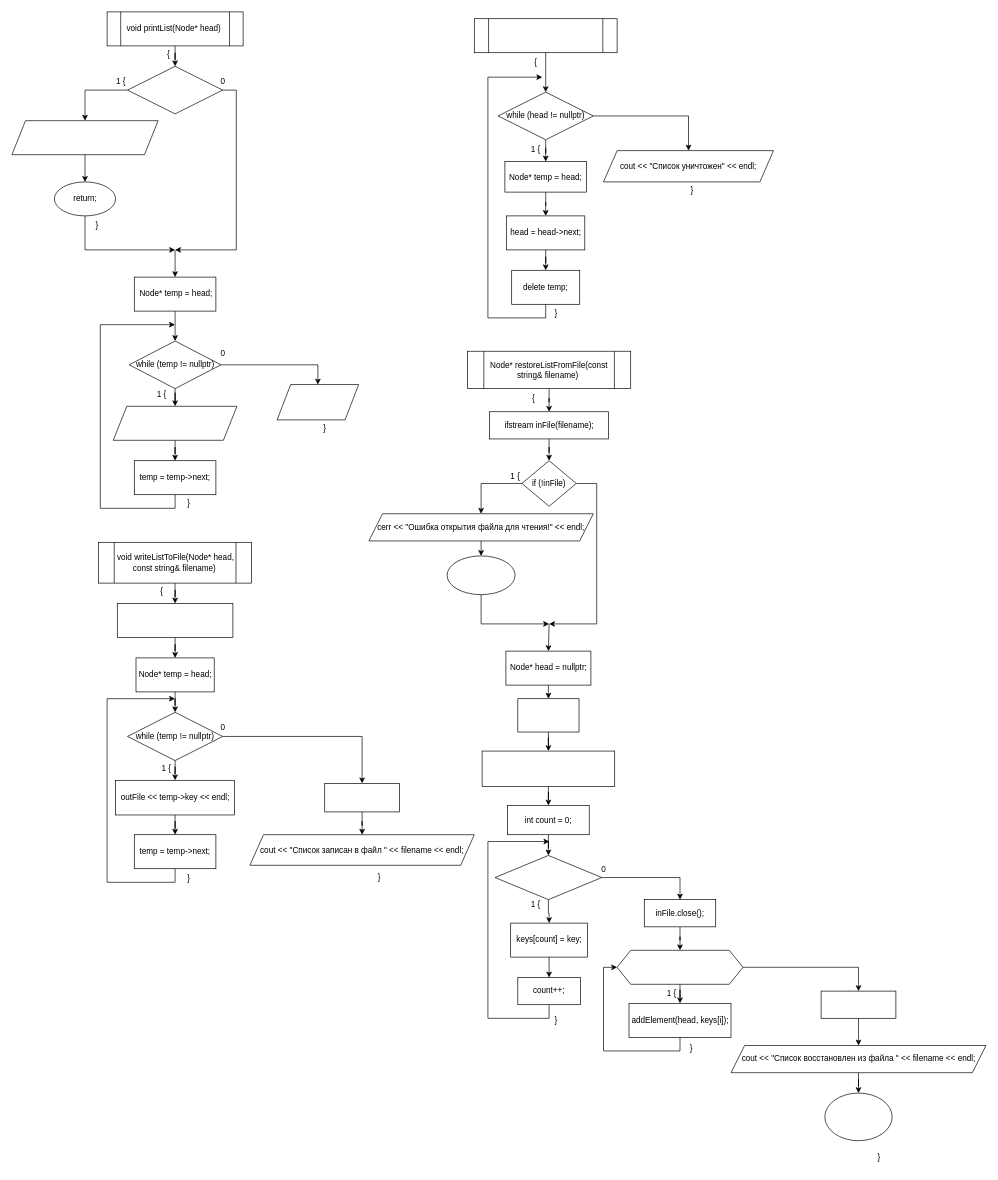
This 998x1180 diagram has some shape labels left out. Here are the shapes that lost their labels. From the top down, the box of each, then its label:
(474, 18, 617, 53): void destroyList(Node*& head)
(127, 66, 223, 114): if (head == nullptr)
(11, 120, 158, 155): cout << "Список пустой" << endl;
(276, 384, 359, 420): cout << endl;
(113, 406, 237, 440): cout << temp->key << " ";
(446, 555, 515, 595): return nullptr;
(117, 603, 233, 638): ofstream outFile(filename);
(517, 698, 579, 732): string key;
(481, 750, 615, 786): string* keys = new string[1000];
(324, 783, 400, 812): outFile.close();
(494, 855, 602, 900): while (getline(inFile, key))
(616, 950, 743, 984): for (int i = count - 1; i >= 0; i--)
(820, 990, 896, 1018): delete[] keys;
(824, 1092, 892, 1141): return head;
